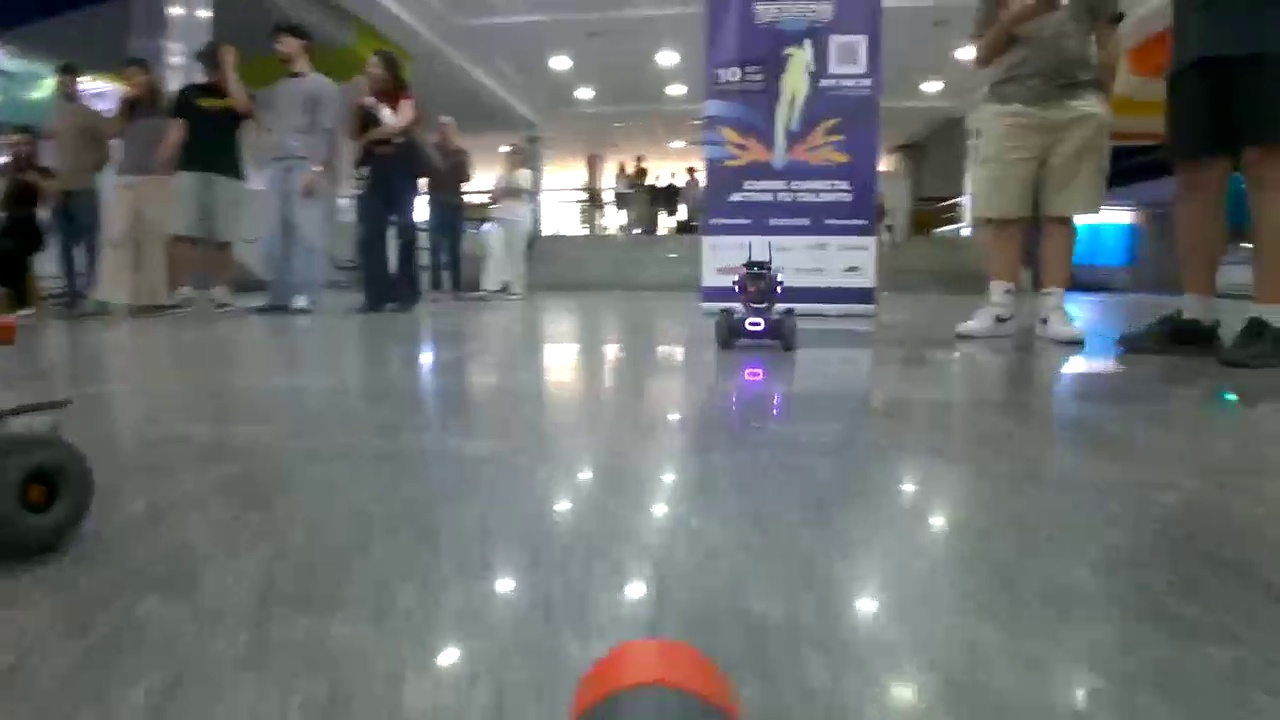robot: (1, 395, 95, 550), (712, 238, 800, 350)
